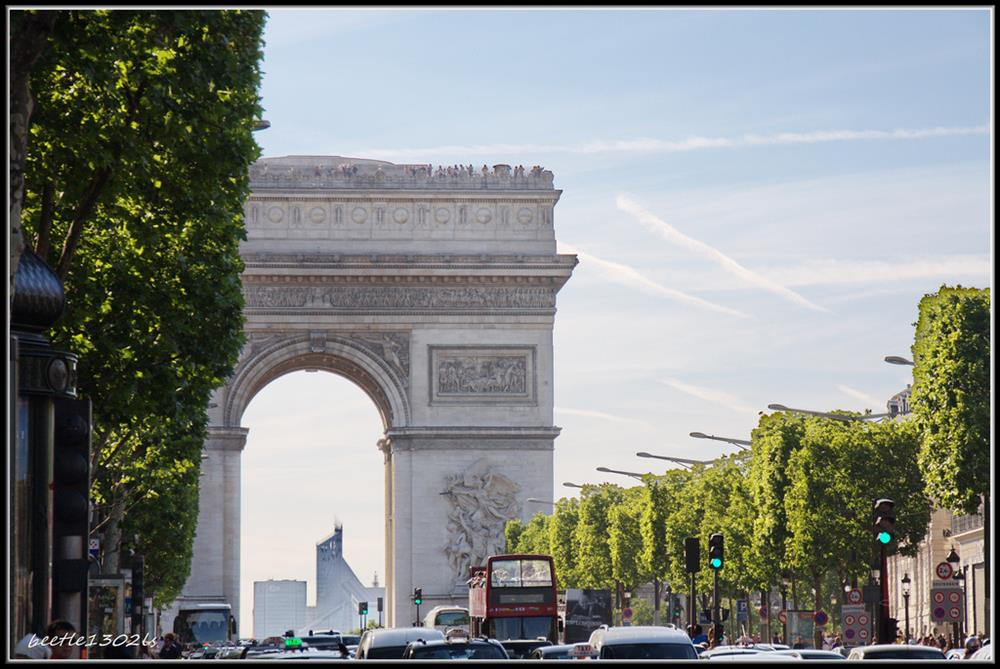Triumphal_Arch: (214, 155, 565, 637)
